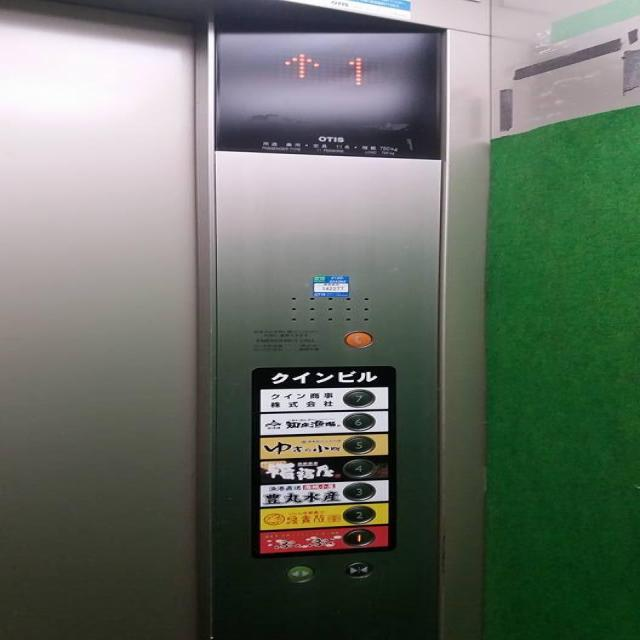1: (340, 527, 376, 547)
2: (339, 504, 377, 525)
3: (339, 482, 377, 502)
4: (340, 458, 380, 479)
5: (341, 434, 377, 454)
6: (338, 412, 377, 432)
7: (339, 388, 377, 408)
call: (338, 329, 378, 350)
close: (340, 560, 374, 581)
led: (203, 9, 452, 164)
open: (282, 564, 314, 583)
